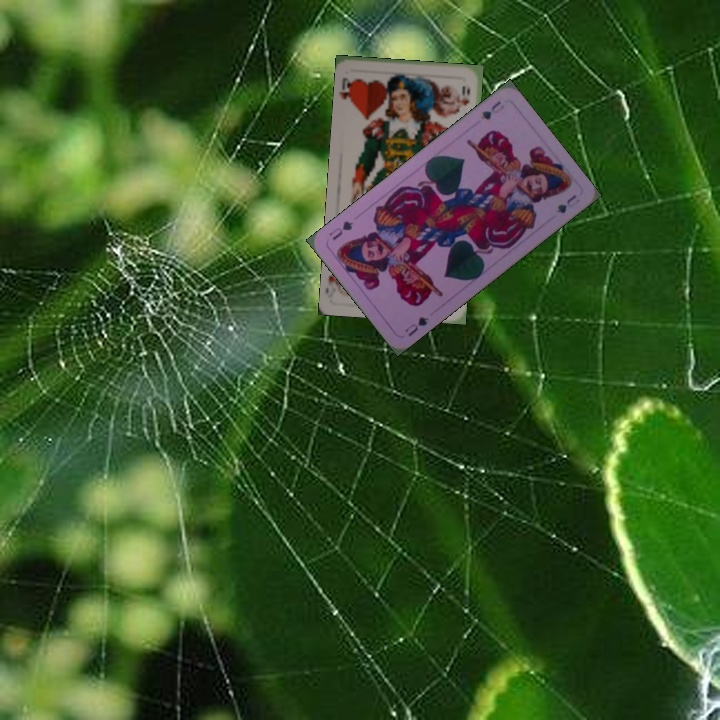GU: (401, 312, 431, 339), (477, 97, 507, 123)
HO: (336, 74, 357, 107)
